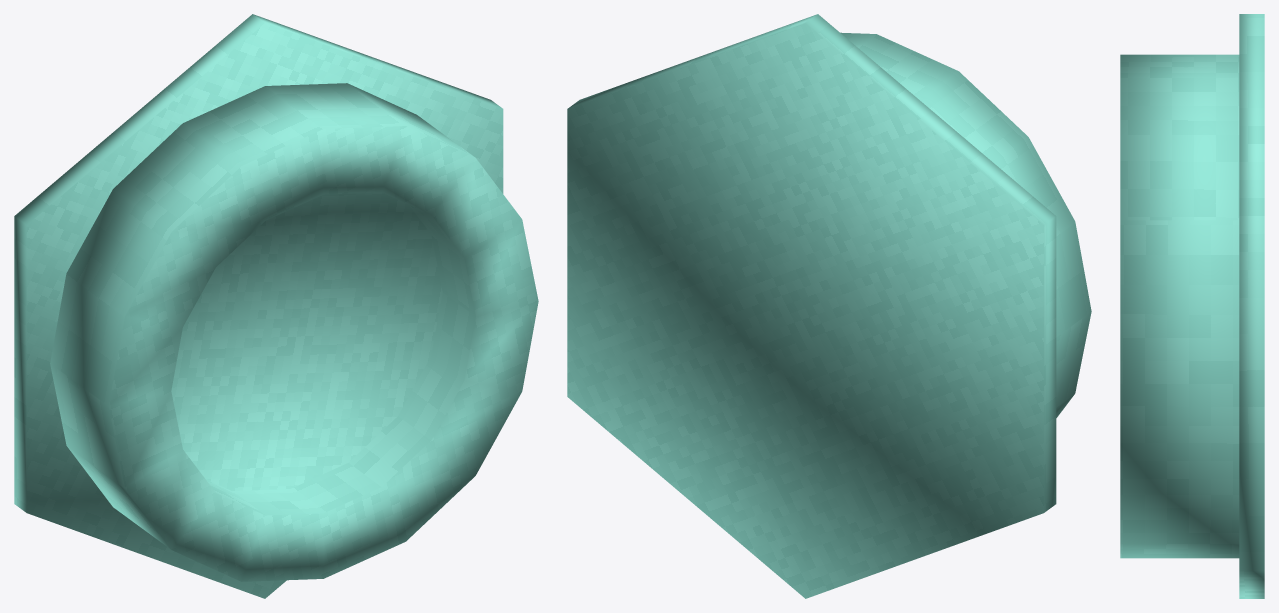
The model's file is fountain.fbx.
3 views of the same model, side by side, from view 1: azimuth 30°, elevation 25°; view 2: azimuth 150°, elevation 25°; view 3: azimuth 270°, elevation 25° (orthographic).
Parts seen in each view (by area): view 1: Fountain; view 2: Fountain; view 3: Fountain.
Boxes of the visible parts, box(x1,y1,x2,y2) form: Fountain: box(14, 14, 538, 598); Fountain: box(567, 14, 1091, 598); Fountain: box(1120, 14, 1264, 598).
Size of the model in its own units: 222 by 256 by 57.23.
Materials: 1 (1 with a texture image).
